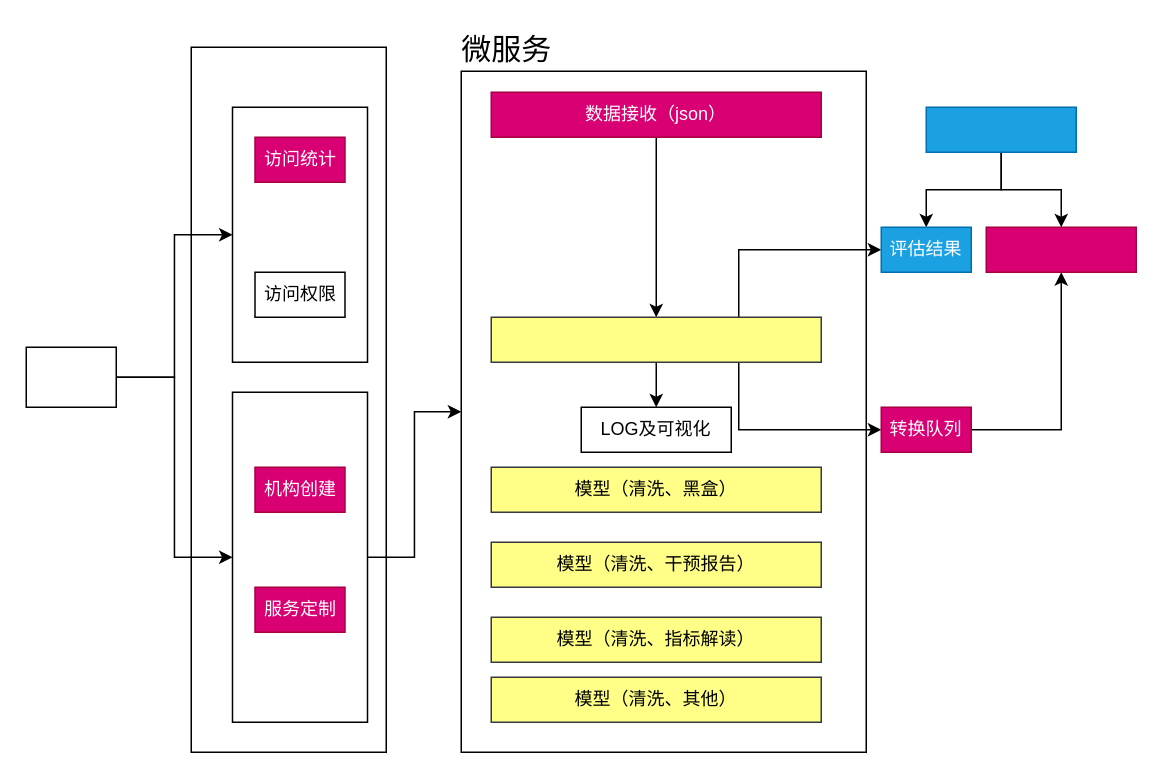
The diagram is 1163 pixels wide and 779 high, and some of its shapes have lost their labels. Here are the shapes that lost their labels. From the top down, the centre of each, then its label:
(x=1000, y=129): 健康管理
(x=1060, y=249): 5个基本表 +1
(x=655, y=339): 模型（清洗、黑盒、评估报告）
(x=70, y=376): 对外服务
